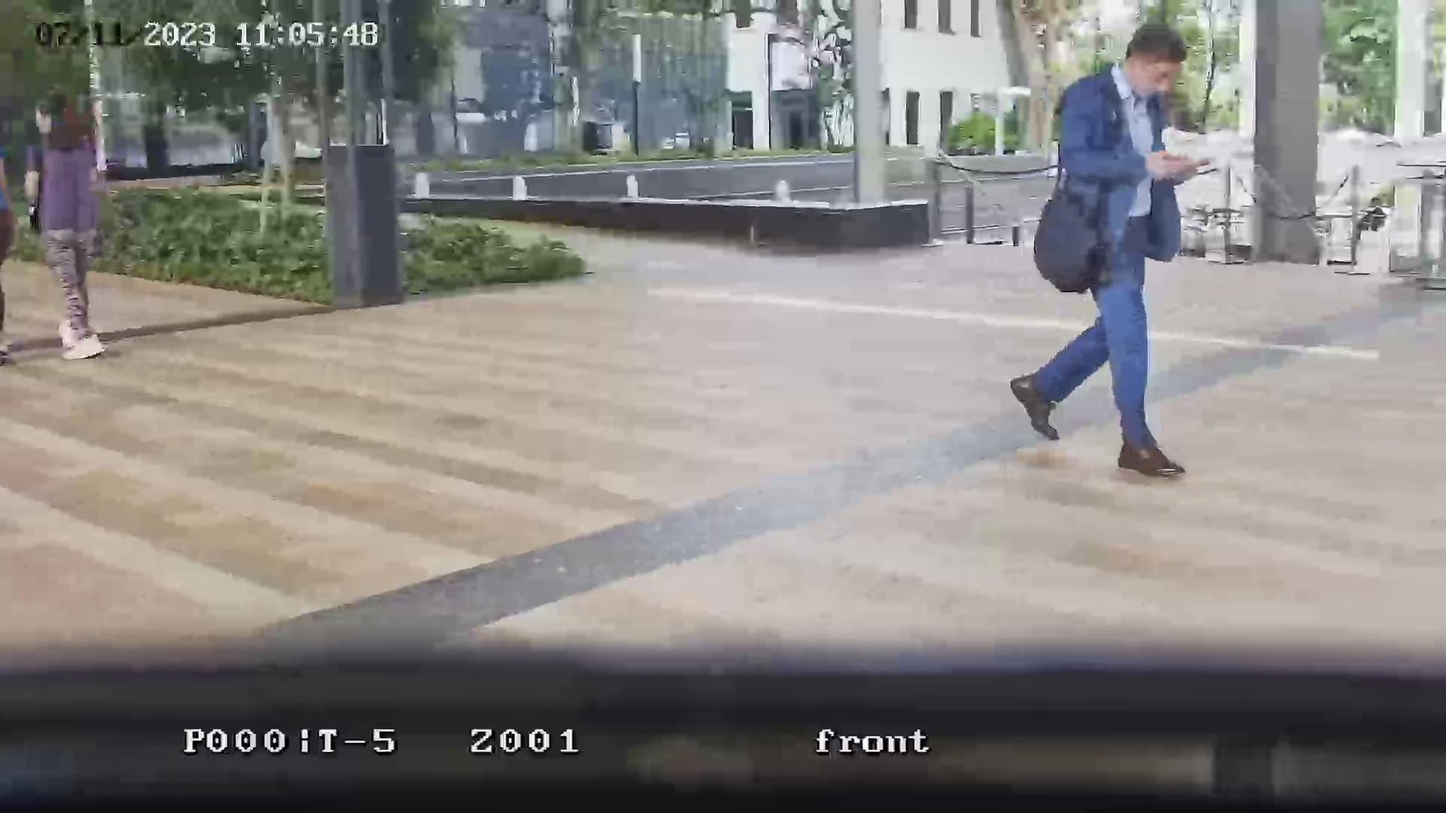person: (1011, 22, 1209, 479), (29, 84, 106, 361), (0, 151, 17, 366)
